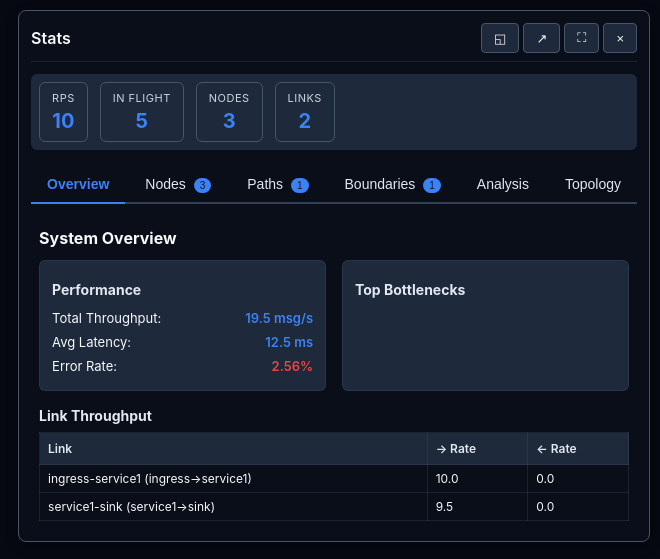
Test: StatsOverlayEnhanced with Real Metrics › calculates boundary group metrics from actual data
What coordinates should you click on to do the following:
click the button with class "stats-tab" showing "Boundaries 1"
I would click on:
 (393, 184)
Its box is [328,166,457,202].
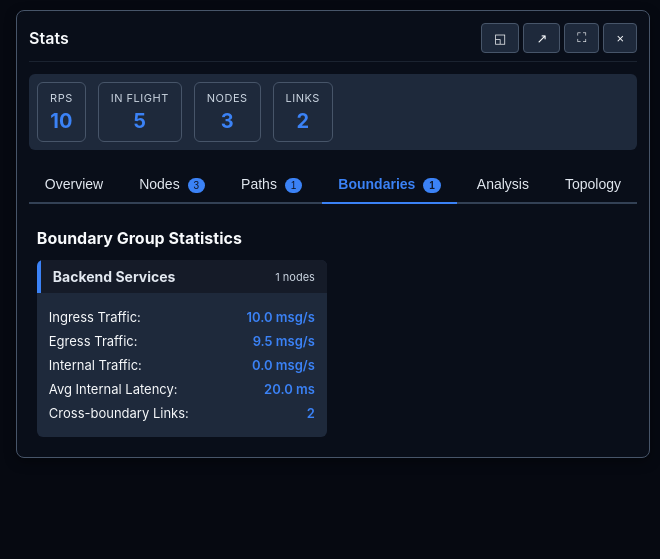
Expected: the element with class "boundary-card" is shown, [37,260,327,437]
Expected: the element with class "boundary-card" shows "Backend Services", [53,268,176,285]
Expected: the element with class "boundary-card" shows "1 nodes", [275,270,315,284]
